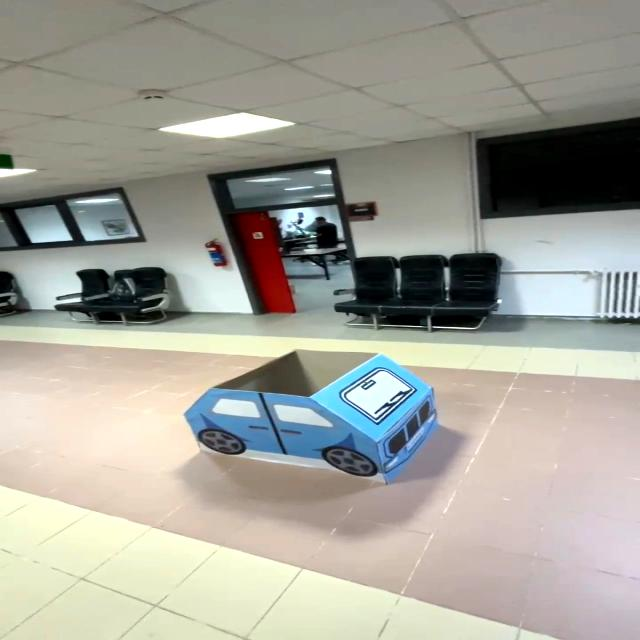blue_car: (164, 338, 457, 492)
